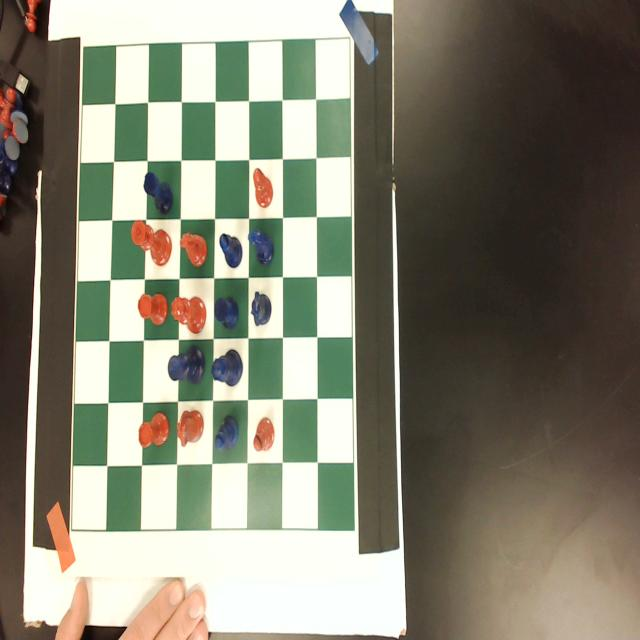B: (212, 413, 240, 454), (218, 230, 244, 269)
K: (166, 344, 206, 387)
N: (247, 226, 276, 268), (250, 287, 273, 330)
Q: (210, 346, 244, 388)
R: (143, 170, 174, 214), (213, 294, 240, 334)
b: (251, 416, 277, 459), (252, 167, 274, 211)
k: (130, 218, 172, 267)
n: (178, 230, 208, 269), (176, 408, 204, 449)
q: (170, 295, 208, 336)
r: (137, 409, 171, 449), (136, 291, 169, 327)
